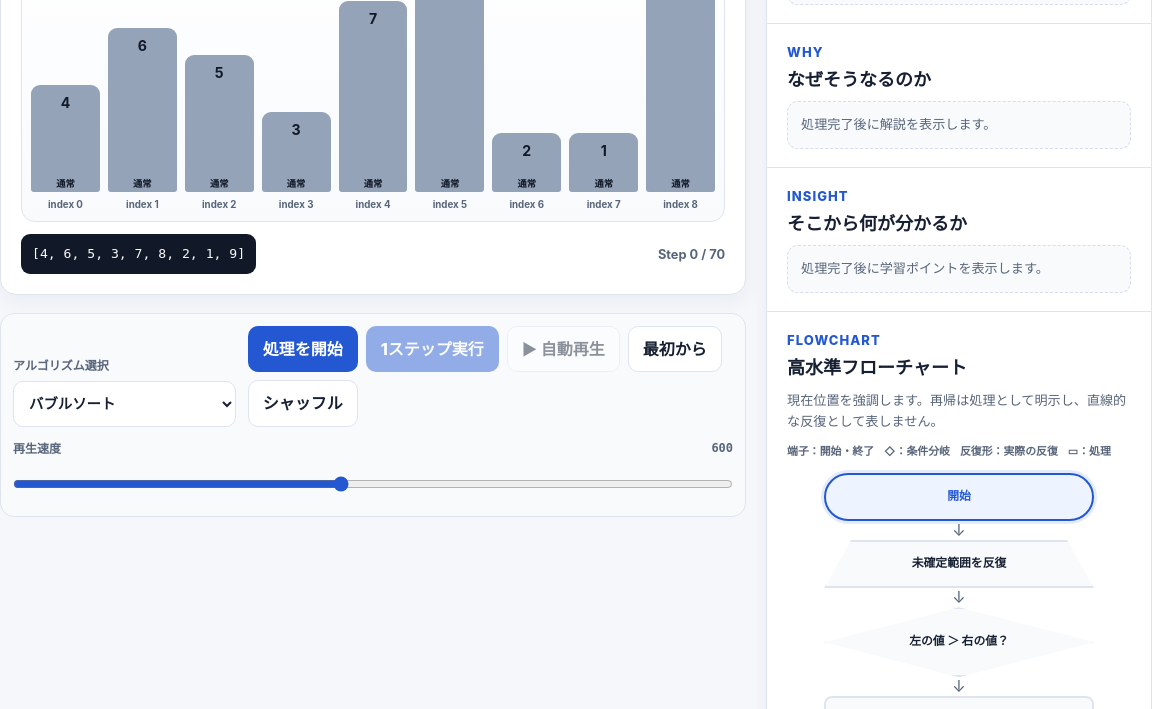
Scenario: SortMaterial › starts independently and advances one meaningful step
The width and height of the screenshot is (1152, 709).
(page scrolled)
Click the button "処理を開始".
click(303, 349)  # box x1=248 y1=326 x2=358 y2=372
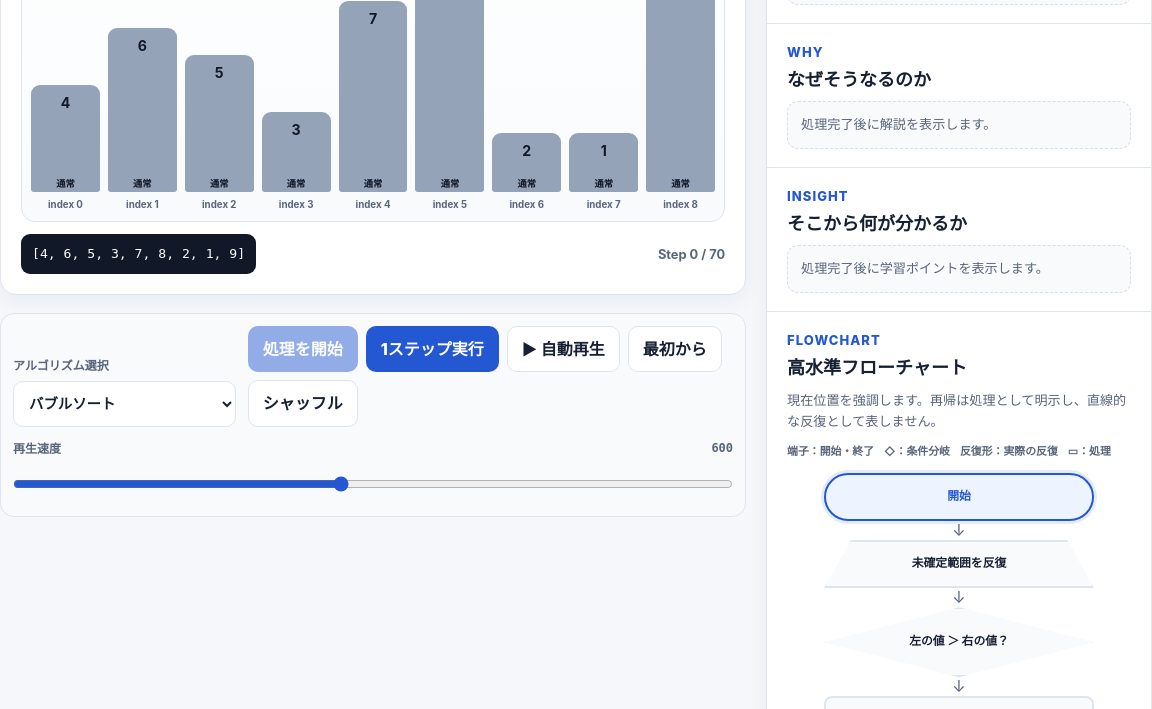
Expected: the text with test id "step-progress" shows "Step 0 /", x1=658 y1=247 x2=725 y2=262
Expected: the button "1ステップ実行" is enabled
Click the button "1ステップ実行".
click(432, 349)  # box x1=366 y1=326 x2=499 y2=372
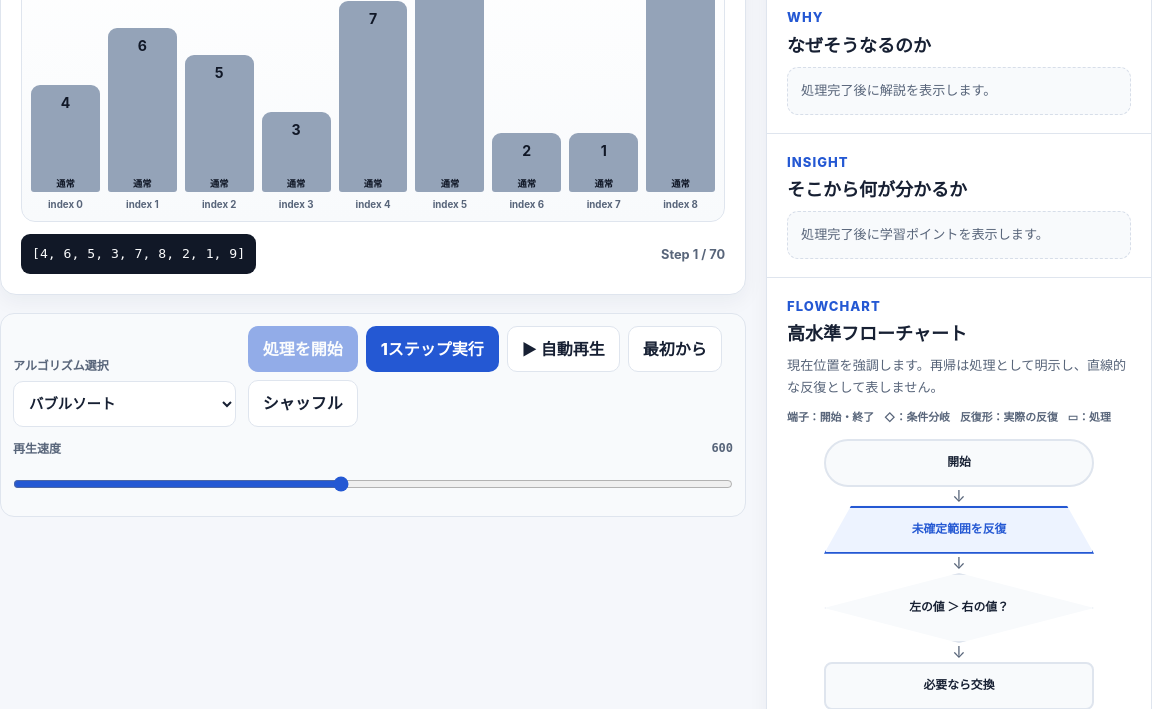
Expected: the text with test id "step-progress" shows "Step 1 /", x1=661 y1=247 x2=725 y2=262
